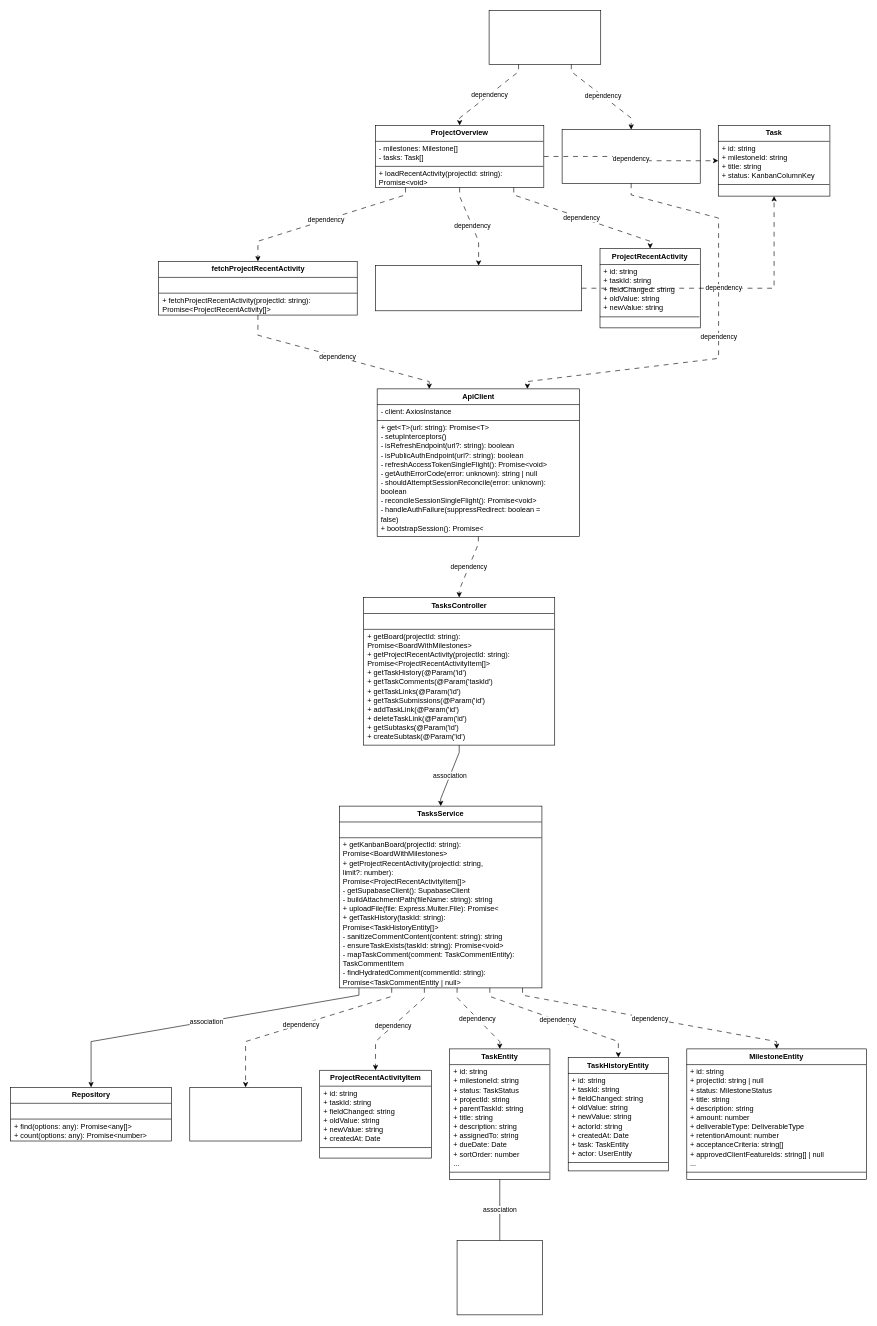
Some shapes in this 877 by 1326 pixel diagram are drawn without their labels. The centre of each missing label's shape, as x and y in pixels:
BoardWithMilestones + tasks: KanbanBoard + milestones: Milestone[]: (245,1114)
calculateProgress + calculateProgress(tasks?: Task[] | null): number: (478,288)
fetchBoard + fetchBoard(projectId: string): Promise<KanbanBoard>: (631,156)
ProjectWorkspace - board: KanbanBoard - milestones: Milestone[]: (544,37)
TaskStatus TODO IN_PROGRESS IN_REVIEW REVISIONS_REQUIRED BLOCKED DONE: (499,1277)
